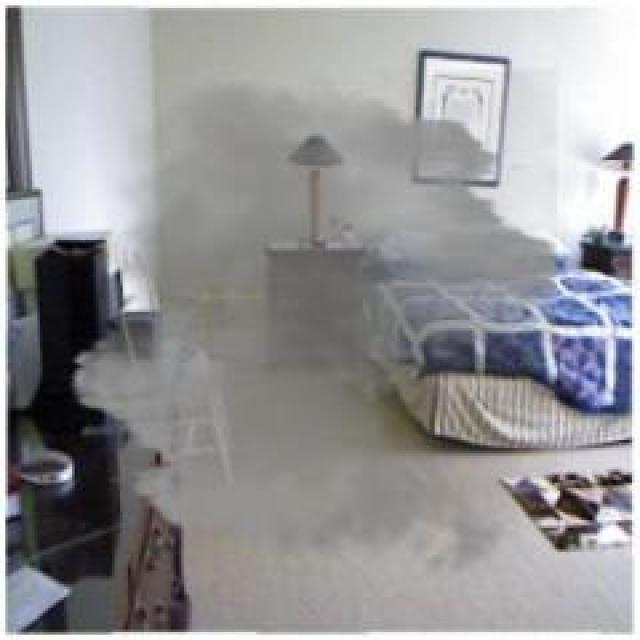fire: (55, 69, 578, 592)
